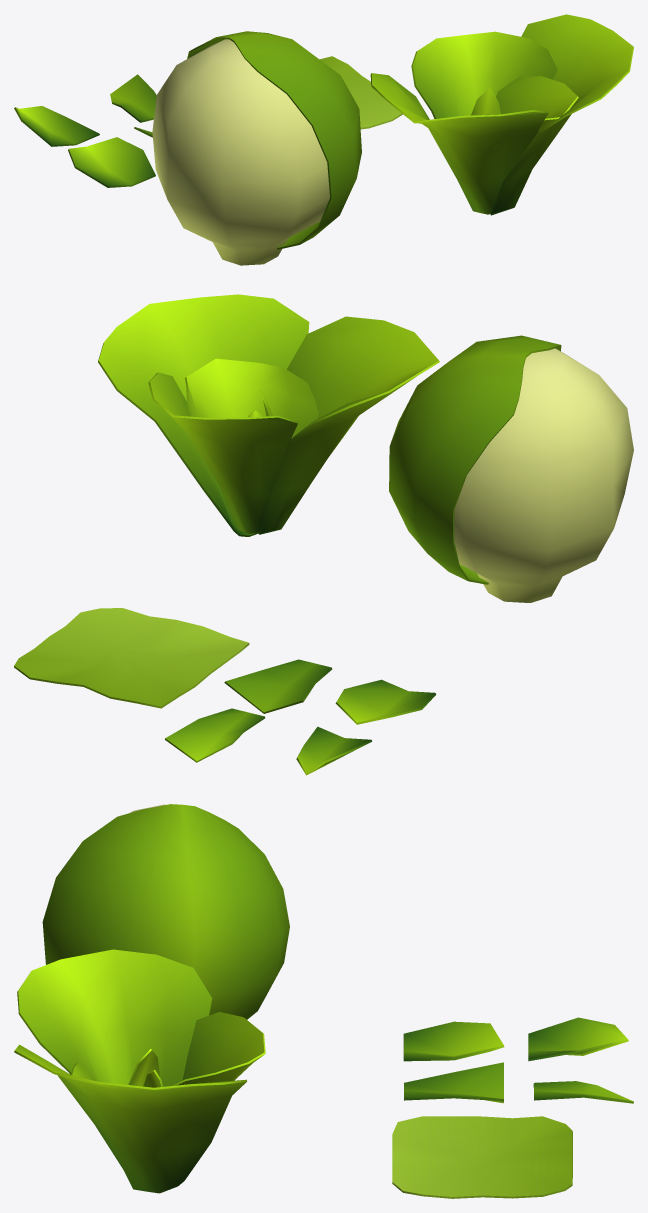
Rendered from lettuce.fbx.
3 views of the same model, one above another, from view 1: azimuth 30°, elevation 25°; view 2: azimuth 150°, elevation 25°; view 3: azimuth 270°, elevation 25° (orthographic). The views are drawn at different scales.
Parts seen in each view (by area): view 1: lettuceIceberg, lettuceButterhead, lettuceIceberg_Leaf, lettuceSliced_2, lettuce_square, lettuceSliced_3, lettuceSliced_1; view 2: lettuceButterhead, lettuceIceberg, lettuceIceberg_Leaf, lettuce_square, lettuceSliced_0, lettuceSliced_2, lettuceSliced_1, lettuceSliced_3; view 3: lettuceButterhead, lettuceIceberg_Leaf, lettuce_square, lettuceSliced_2, lettuceSliced_3, lettuceSliced_0, lettuceSliced_1.
Part boxes in pixels (bbox=[...]): lettuceIceberg: bbox=[152, 39, 329, 265]; lettuceButterhead: bbox=[370, 14, 633, 215]; lettuceIceberg_Leaf: bbox=[187, 31, 361, 249]; lettuceSliced_2: bbox=[68, 137, 155, 187]; lettuce_square: bbox=[320, 56, 402, 129]; lettuceSliced_3: bbox=[14, 106, 99, 146]; lettuceSliced_1: bbox=[110, 74, 156, 122]; lettuceButterhead: bbox=[98, 294, 439, 536]; lettuceIceberg: bbox=[454, 348, 633, 602]; lettuceIceberg_Leaf: bbox=[389, 335, 561, 584]; lettuce_square: bbox=[14, 608, 249, 708]; lettuceSliced_0: bbox=[224, 659, 332, 713]; lettuceSliced_2: bbox=[335, 679, 436, 724]; lettuceSliced_1: bbox=[165, 708, 265, 762]; lettuceSliced_3: bbox=[296, 726, 372, 775]; lettuceButterhead: bbox=[14, 949, 265, 1193]; lettuceIceberg_Leaf: bbox=[42, 804, 289, 1019]; lettuce_square: bbox=[392, 1116, 572, 1198]; lettuceSliced_2: bbox=[403, 1021, 504, 1061]; lettuceSliced_3: bbox=[528, 1017, 628, 1061]; lettuceSliced_0: bbox=[404, 1062, 503, 1103]; lettuceSliced_1: bbox=[533, 1081, 633, 1103].
Size of the model in its own units: 2.82 by 3.1 by 1.4.
Materials: 1 (1 with a texture image).
